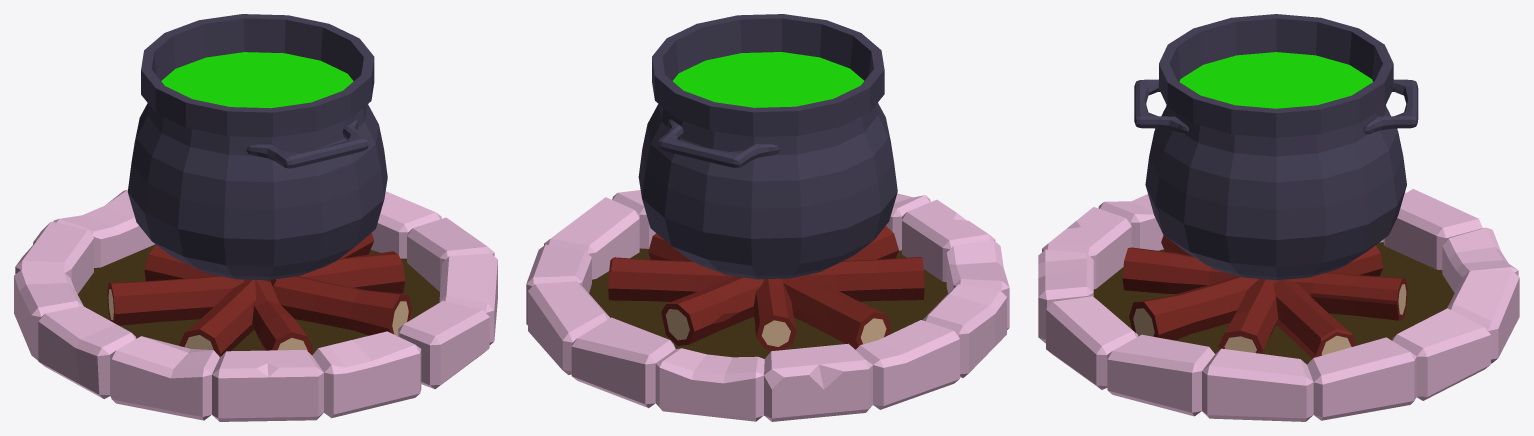
File: cauldron_1.fbx
3 views of the same model, side by side, from view 1: azimuth 30°, elevation 25°; view 2: azimuth 150°, elevation 25°; view 3: azimuth 270°, elevation 25° (orthographic).
Visible parts, largest first — view 1: cauldron, rock, polino; view 2: cauldron, rock, polino; view 3: cauldron, rock, polino.
Boxes of the visible parts, left/top/right/bottom form: cauldron: left=127, top=14, right=387, bottom=280; rock: left=14, top=189, right=497, bottom=421; polino: left=107, top=233, right=411, bottom=356; cauldron: left=638, top=14, right=897, bottom=279; rock: left=526, top=190, right=1009, bottom=421; polino: left=608, top=226, right=924, bottom=350; cauldron: left=1134, top=14, right=1418, bottom=280; rock: left=1038, top=189, right=1519, bottom=421; polino: left=1122, top=235, right=1407, bottom=358.
Bounding box in the file's own units: 181 × 107 × 180.
